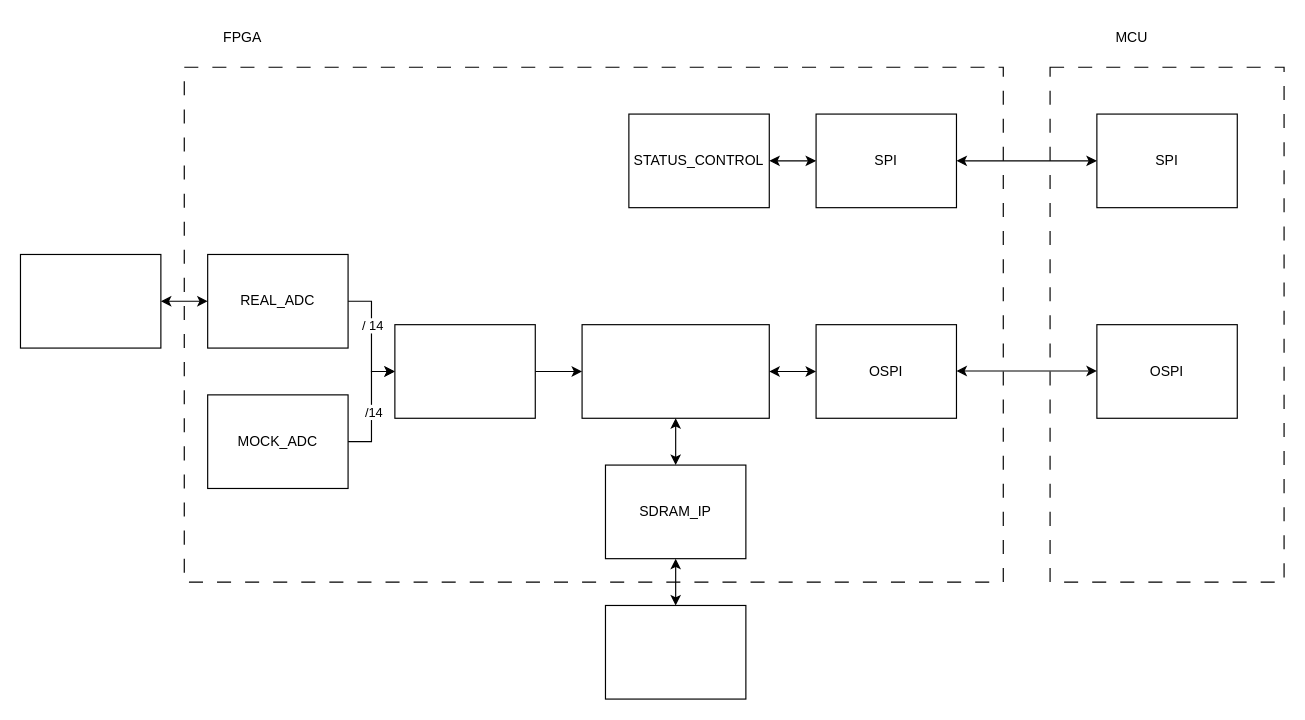
This 1305x720 diagram has some shape labels left out. The shapes that lost their labels are listed below. From the top down, each one's box as (x1, y1, x2, y2) in pixels, then its label:
(19, 253, 161, 348): ADC
(394, 324, 535, 418): ADC_MUX
(581, 324, 769, 418): MEMORY_MANAGER
(604, 604, 746, 699): SDRAM
